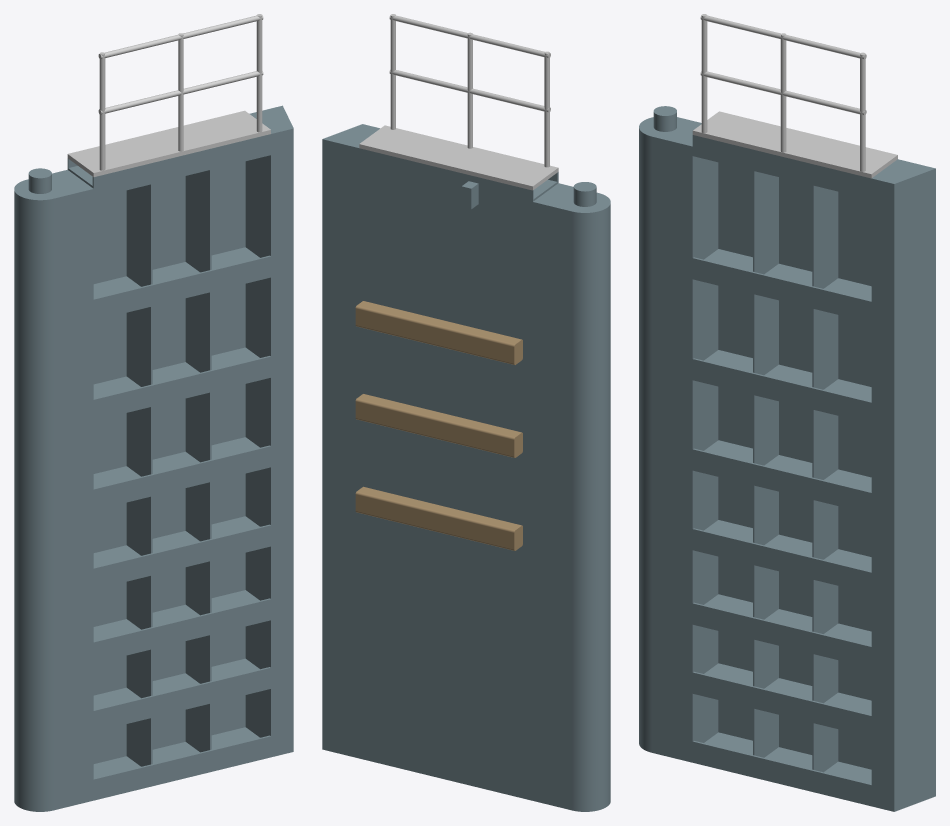
Rendered from step_14.glb.
3 views of the same model, side by side, from view 1: azimuth 30°, elevation 25°; view 2: azimuth 150°, elevation 25°; view 3: azimuth 330°, elevation 25° (orthographic). The views are drawn at different scales.
Visible parts, largest first — view 1: part__gate leaf (welded S355 steel), part__walkway and handrail; view 2: part__gate leaf (welded S355 steel), part__oak fenders, part__walkway and handrail; view 3: part__gate leaf (welded S355 steel), part__walkway and handrail.
Boxes of the visible parts, x1=… form: part__gate leaf (welded S355 steel): x1=14, y1=105, x2=293, y2=811; part__walkway and handrail: x1=67, y1=14, x2=270, y2=176; part__gate leaf (welded S355 steel): x1=322, y1=124, x2=610, y2=811; part__oak fenders: x1=355, y1=301, x2=522, y2=550; part__walkway and handrail: x1=359, y1=14, x2=558, y2=190; part__gate leaf (welded S355 steel): x1=639, y1=106, x2=935, y2=811; part__walkway and handrail: x1=692, y1=14, x2=897, y2=178.
Bounding box in the file's own units: 2760 × 7050 × 600.
